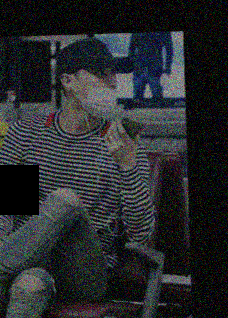mask_weared_incorrect: (70, 67, 118, 118)
